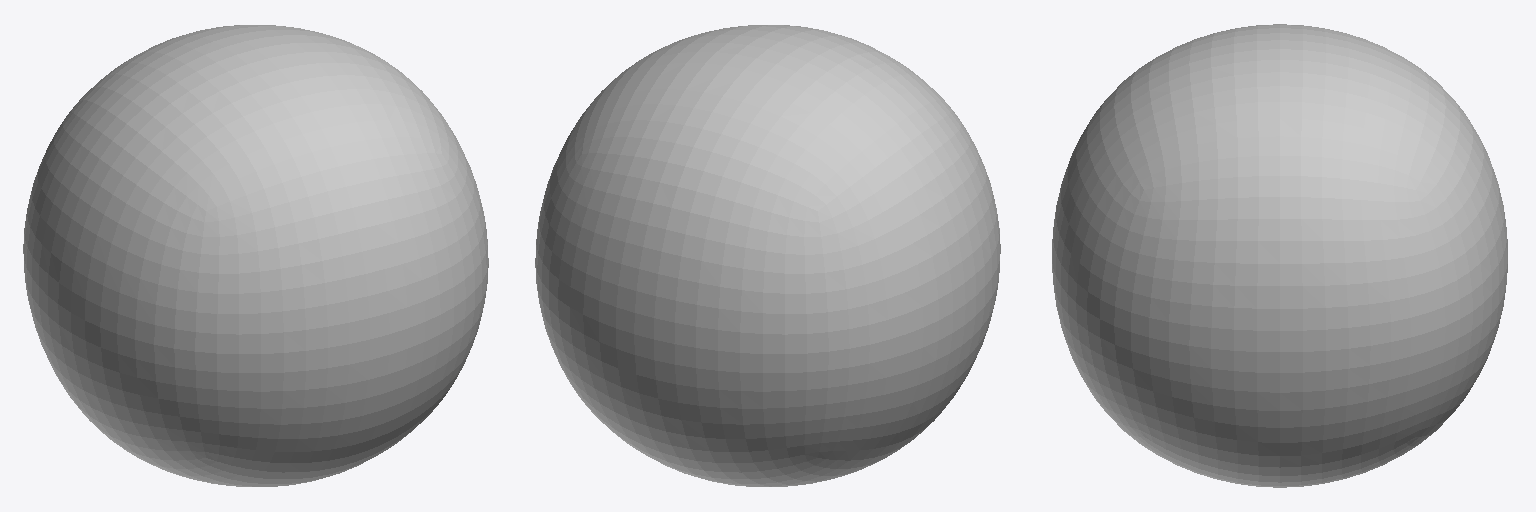
File: spacedome.obj
3 views of the same model, side by side, from view 1: azimuth 30°, elevation 25°; view 2: azimuth 150°, elevation 25°; view 3: azimuth 270°, elevation 25° (orthographic).
Visible parts, largest first — view 1: Cube.001; view 2: Cube.001; view 3: Cube.001.
Boxes of the visible parts, x1=… form: Cube.001: x1=23, y1=25, x2=488, y2=486; Cube.001: x1=535, y1=25, x2=1000, y2=486; Cube.001: x1=1052, y1=24, x2=1507, y2=487.
Size of the model in its own units: 100 by 100 by 100.